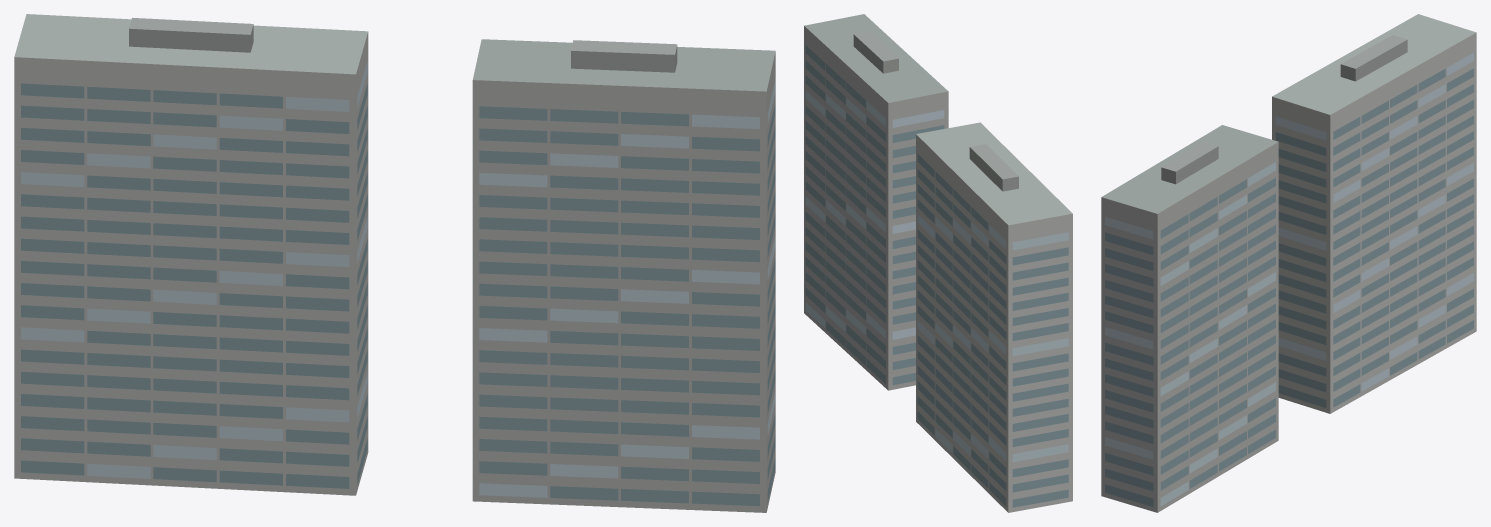
The model's file is apt-a15210103.glb.
The picture shows the model from 3 angles, left to right: view 1: azimuth 30°, elevation 25°; view 2: azimuth 150°, elevation 25°; view 3: azimuth 270°, elevation 25°; orthographic projection. The views are drawn at different scales.
Visible parts, largest first — view 1: apt-a15210103; view 2: apt-a15210103; view 3: apt-a15210103.
Boxes of the visible parts, x1,y1,x2,y2 form: apt-a15210103: (14,14,775,512); apt-a15210103: (804,14,1072,512); apt-a15210103: (1101,14,1476,512).
Bounding box in the file's own units: 81.19 × 59 × 64.41.
